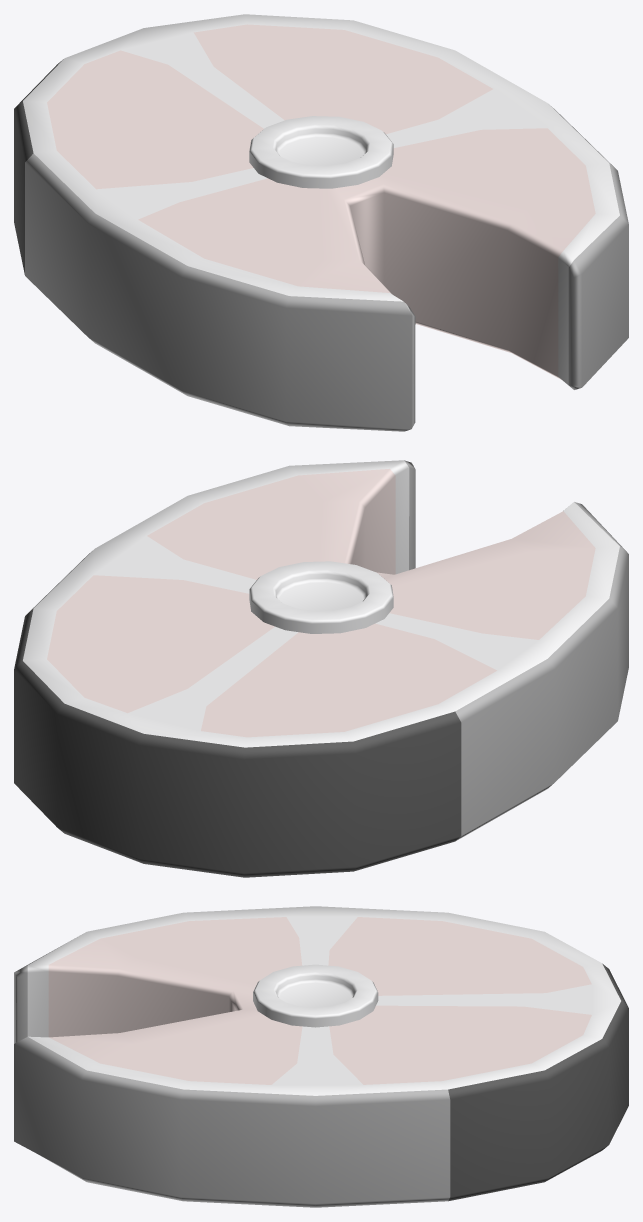
The model's file is SeaBass_2_Steak.fbx.
3 views of the same model, one above another, from view 1: azimuth 30°, elevation 25°; view 2: azimuth 150°, elevation 25°; view 3: azimuth 270°, elevation 25° (orthographic). The views are drawn at different scales.
Parts seen in each view (by area): view 1: SeaBass_2_Steak; view 2: SeaBass_2_Steak; view 3: SeaBass_2_Steak.
Part boxes in pixels (left/top/right/bottom): SeaBass_2_Steak: left=14, top=14, right=628, bottom=431; SeaBass_2_Steak: left=14, top=460, right=628, bottom=877; SeaBass_2_Steak: left=14, top=906, right=628, bottom=1207.
Size of the model in its own units: 20.49 by 6.55 by 27.17.
